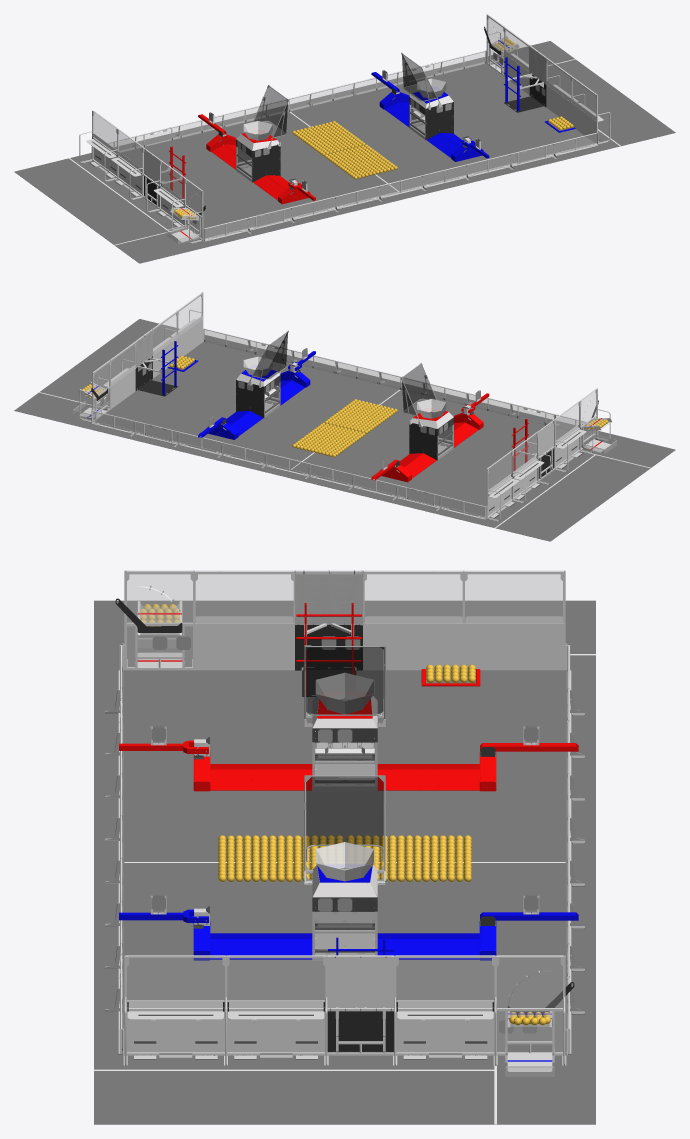
File: field-optimized.glb
3 renders of one model, top to bottom at view 1: azimuth 30°, elevation 25°; view 2: azimuth 150°, elevation 25°; view 3: azimuth 270°, elevation 25°, orthographic. The views are drawn at different scales.
Visible parts, largest first — view 1: FE-2026-01: Playing Field Carpet, GE-26511-Vinyl: Tower Upper Plastic Vinyl, GE-26107: Bump Pin, GE-26900: Fuel, Gaffer Tape, Black, 4in Wide, 888in Long, Gaffer Tape, Blue, 2in Wide, 17.63in Long, Gaffer Tape, Red, 2in Wide, 317.19in Long, GE-26318: Hub Net (Aesthetic), GE-26216-01: Trench Arm Pin Body, Gaffer Tape, White, 2in Wide, 316.19in Long, GE-26329: Hub Funnel Side, GE-26207: Trench Hinged Riser Top Assy <1> (+3 smaller); view 2: FE-2026-01: Playing Field Carpet, GE-26511-Vinyl: Tower Upper Plastic Vinyl, GE-26107: Bump Pin, GE-26900: Fuel, Gaffer Tape, Black, 4in Wide, 888in Long, Gaffer Tape, Blue, 2in Wide, 17.63in Long, Gaffer Tape, Red, 2in Wide, 317.19in Long, GE-26318: Hub Net (Aesthetic), GE-26216-01: Trench Arm Pin Body, Gaffer Tape, White, 2in Wide, 316.19in Long, GE-26329: Hub Funnel Side, GE-26207: Trench Hinged Riser Top Assy <1> (+3 smaller); view 3: FE-2026-01: Playing Field Carpet, GE-26107: Bump Pin, GE-26511-Vinyl: Tower Upper Plastic Vinyl, GE-26900: Fuel, GE-26318: Hub Net (Aesthetic), Gaffer Tape, Red, 2in Wide, 317.19in Long, Gaffer Tape, Blue, 2in Wide, 17.63in Long, GE-26216-01: Trench Arm Pin Body, Gaffer Tape, White, 2in Wide, 316.19in Long, Gaffer Tape, Black, 4in Wide, 888in Long, GE-26329: Hub Funnel Side, GE-26207: Trench Hinged Riser Top Assy <1> (+5 smaller).
Boxes of the visible parts, x1,y1,x2,y2 form: FE-2026-01: Playing Field Carpet: [14, 41, 675, 263]; GE-26511-Vinyl: Tower Upper Plastic Vinyl: [94, 17, 596, 243]; GE-26107: Bump Pin: [79, 14, 610, 243]; GE-26900: Fuel: [174, 38, 573, 218]; Gaffer Tape, Black, 4in Wide, 888in Long: [92, 26, 573, 214]; Gaffer Tape, Blue, 2in Wide, 17.63in Long: [371, 40, 575, 161]; Gaffer Tape, Red, 2in Wide, 317.19in Long: [169, 114, 315, 239]; GE-26318: Hub Net (Aesthetic): [254, 54, 436, 137]; GE-26216-01: Trench Arm Pin Body: [132, 53, 557, 240]; Gaffer Tape, White, 2in Wide, 316.19in Long: [69, 50, 620, 245]; GE-26329: Hub Funnel Side: [243, 78, 446, 140]; GE-26207: Trench Hinged Riser Top Assy <1>: [86, 53, 603, 207]; FE-2026-01: Playing Field Carpet: [14, 319, 675, 541]; GE-26511-Vinyl: Tower Upper Plastic Vinyl: [73, 295, 616, 516]; GE-26107: Bump Pin: [78, 292, 611, 521]; GE-26900: Fuel: [82, 355, 608, 457]; Gaffer Tape, Black, 4in Wide, 888in Long: [91, 331, 598, 496]; Gaffer Tape, Blue, 2in Wide, 17.63in Long: [88, 341, 315, 439]; Gaffer Tape, Red, 2in Wide, 317.19in Long: [371, 393, 601, 482]; GE-26318: Hub Net (Aesthetic): [253, 332, 435, 415]; GE-26216-01: Trench Arm Pin Body: [87, 331, 602, 511]; Gaffer Tape, White, 2in Wide, 316.19in Long: [39, 315, 650, 528]; GE-26329: Hub Funnel Side: [243, 356, 446, 418]; GE-26207: Trench Hinged Riser Top Assy <1>: [103, 319, 586, 497]; FE-2026-01: Playing Field Carpet: [94, 600, 595, 1124]; GE-26107: Bump Pin: [118, 570, 571, 1071]; GE-26511-Vinyl: Tower Upper Plastic Vinyl: [122, 572, 567, 1076]; GE-26900: Fuel: [140, 604, 550, 1025]; GE-26318: Hub Net (Aesthetic): [306, 647, 383, 847]; Gaffer Tape, Red, 2in Wide, 317.19in Long: [119, 603, 578, 791]; Gaffer Tape, Blue, 2in Wide, 17.63in Long: [119, 866, 578, 1061]; GE-26216-01: Trench Arm Pin Body: [105, 646, 584, 1062]; Gaffer Tape, White, 2in Wide, 316.19in Long: [94, 616, 595, 1124]; Gaffer Tape, Black, 4in Wide, 888in Long: [116, 570, 574, 1052]; GE-26329: Hub Funnel Side: [315, 673, 374, 881]; GE-26207: Trench Hinged Riser Top Assy <1>: [127, 699, 493, 1019].
Size of the model in its own units: 22.56 by 3.06 by 9.14.
